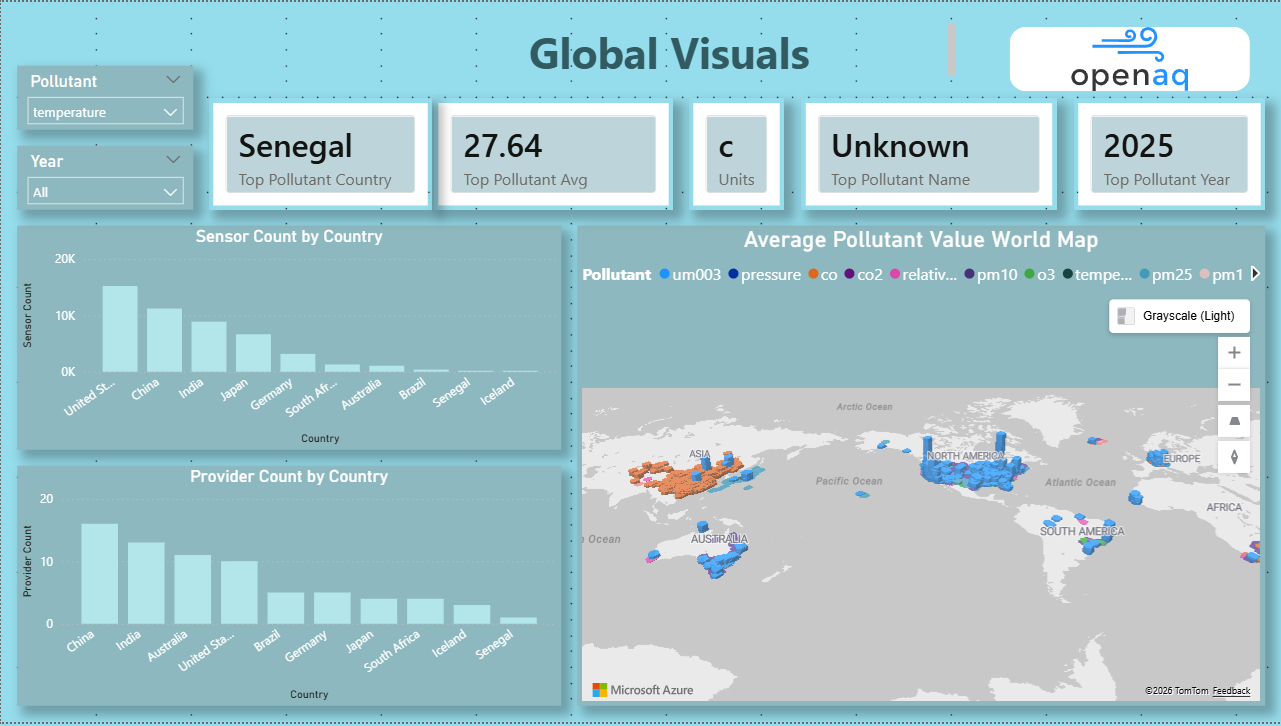

The page's visual inventory and layout, read from the dashboard file:
{"tool":"powerbi","page":{"name":"General Info","canvas":[1280,720],"ordinal":0},"visuals":[{"type":"clusteredColumnChart","fields":{"Category":["dim_location.country_name"],"Y":["Count(fact_table.sensor_id)"]},"box":[16,224,544,224],"z":0},{"type":"clusteredColumnChart","fields":{"Category":["dim_location.country_name"],"Y":["Count(fact_table.provider_id)"]},"box":[16,464,544,240],"z":1000},{"type":"azureMap","title":"Average Pollutant Value World Map","fields":{"Y":["summary_area.Latitude"],"X":["summary_area.Longitude"],"Size":["Avg(fact_table.value)"],"Series":["fact_table.pt_id"]},"box":[576,224,688,480],"z":2000},{"type":"textbox","title":"xvzv","box":[384,16,576,64],"z":3000},{"type":"slicer","fields":{"Values":["global_and_country_pollutant_avg_yearly 2.pt_id"]},"box":[16,64,176,64],"z":4000},{"type":"slicer","fields":{"Values":["global_and_country_pollutant_avg_yearly 2.year"]},"box":[16,144,176,64],"z":5000},{"type":"cardVisual","fields":{"Data":["global_and_country_pollutant_avg_yearly 2.Top Pollutant Avg"]},"box":[416,96,192,112],"z":6000},{"type":"cardVisual","fields":{"Data":["global_and_country_pollutant_avg_yearly 2.Top Pollutant Name"]},"box":[800,96,256,112],"z":7000},{"type":"cardVisual","fields":{"Data":["global_and_country_pollutant_avg_yearly 2.Top Pollutant Year"]},"box":[1072,96,192,112],"z":8000},{"type":"shape","box":[1008.2,24.9,240,64],"z":9000},{"type":"image","box":[1008.2,24.9,240,64],"z":10000},{"type":"cardVisual","fields":{"Data":["global_and_country_pollutant_avg_yearly 2.Top Pollutant Country"]},"box":[208,96,192,112],"z":11000},{"type":"cardVisual","fields":{"Data":["Min(global_and_country_pollutant_avg_yearly 2.units)"]},"box":[624,96,160,112],"z":12000}]}

Visuals, with their boxes in screenshot pixels (x1, y1, x2, y2), scaled from the page's 1280x720 canvas onto the 1281x726 screenshot:
clusteredColumnChart - dim_location.country_name x Count(fact_table.sensor_id): 16/226/560/452
clusteredColumnChart - dim_location.country_name x Count(fact_table.provider_id): 16/468/560/710
"Average Pollutant Value World Map" azureMap: 576/226/1265/710
"xvzv" textbox: 384/16/961/81
slicer - global_and_country_pollutant_avg_yearly 2.pt_id: 16/65/192/129
slicer - global_and_country_pollutant_avg_yearly 2.year: 16/145/192/210
cardVisual - global_and_country_pollutant_avg_yearly 2.Top Pollutant Avg: 416/97/608/210
cardVisual - global_and_country_pollutant_avg_yearly 2.Top Pollutant Name: 801/97/1057/210
cardVisual - global_and_country_pollutant_avg_yearly 2.Top Pollutant Year: 1073/97/1265/210
shape: 1009/25/1249/90
image: 1009/25/1249/90
cardVisual - global_and_country_pollutant_avg_yearly 2.Top Pollutant Country: 208/97/400/210
cardVisual - Min(global_and_country_pollutant_avg_yearly 2.units): 624/97/785/210
